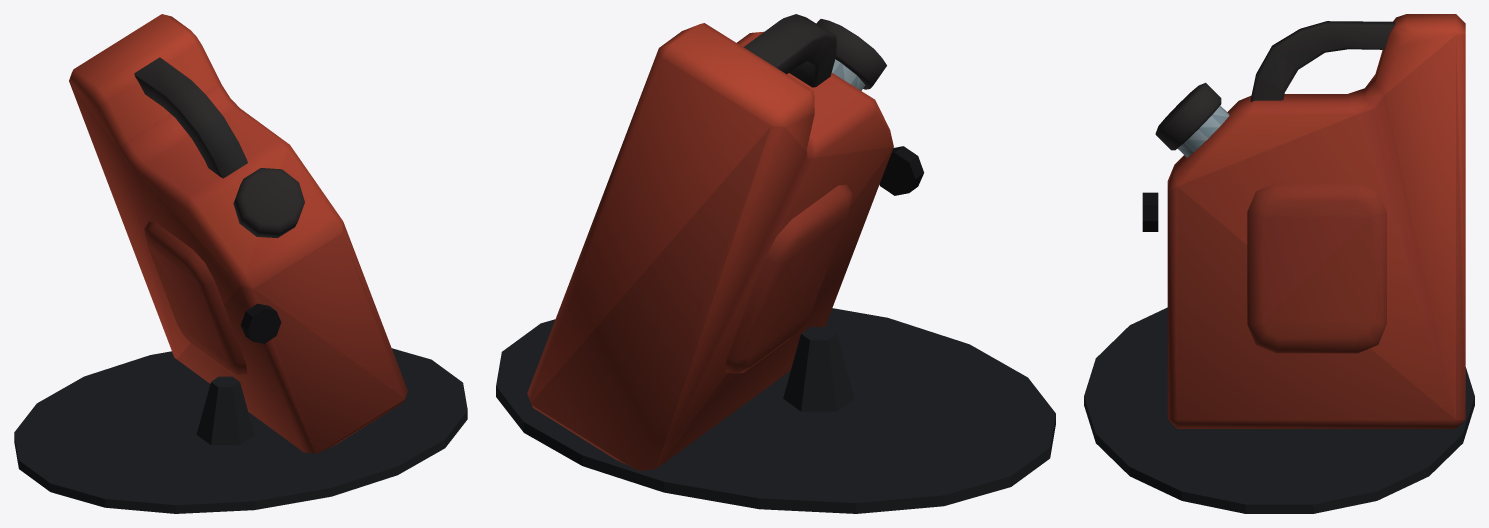
File: item_leak.glb
The picture shows the model from 3 angles, left to right: view 1: azimuth 30°, elevation 25°; view 2: azimuth 150°, elevation 25°; view 3: azimuth 270°, elevation 25°; orthographic projection. The views are drawn at different scales.
Parts seen in each view (by area): view 1: item_mesh; view 2: item_mesh; view 3: item_mesh.
Boxes of the visible parts, x1=… form: item_mesh: x1=14, y1=14, x2=467, y2=513; item_mesh: x1=496, y1=14, x2=1055, y2=513; item_mesh: x1=1084, y1=14, x2=1474, y2=513.
Size of the model in its own units: 0.9848 by 0.8107 by 0.75.
1 material, 1 textured.
